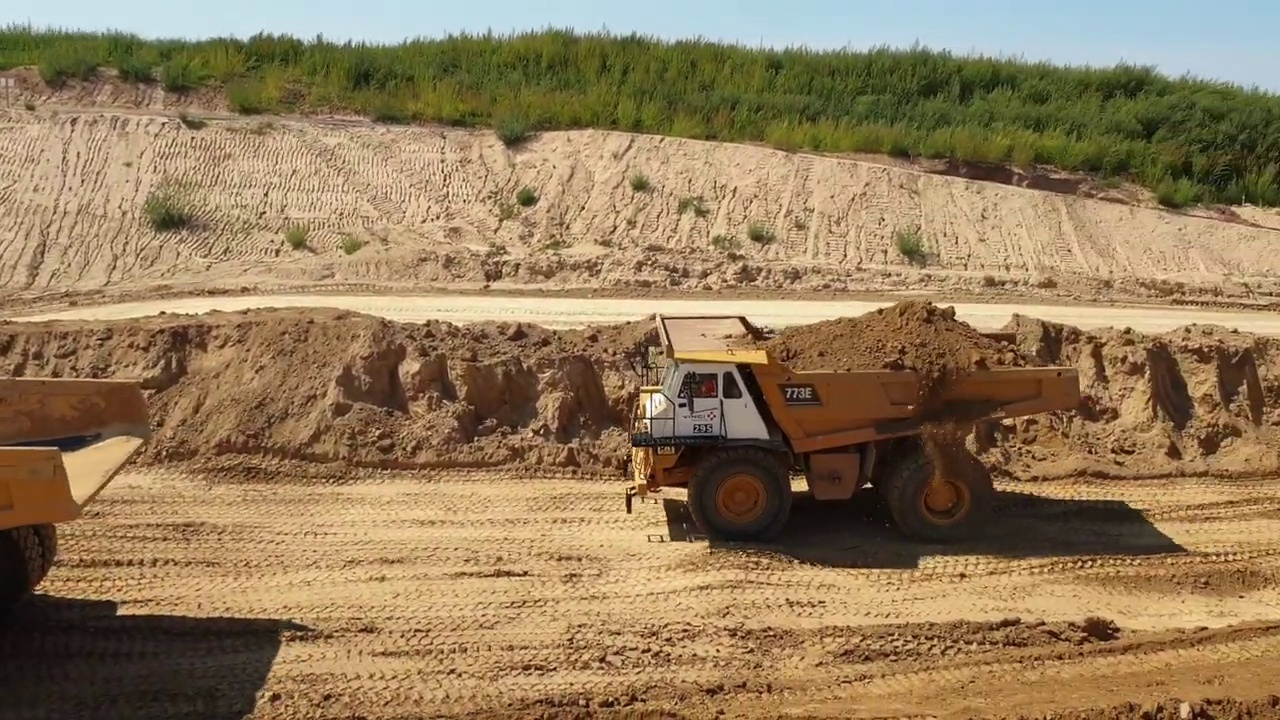truck: (626, 309, 1083, 552), (4, 365, 159, 688)
